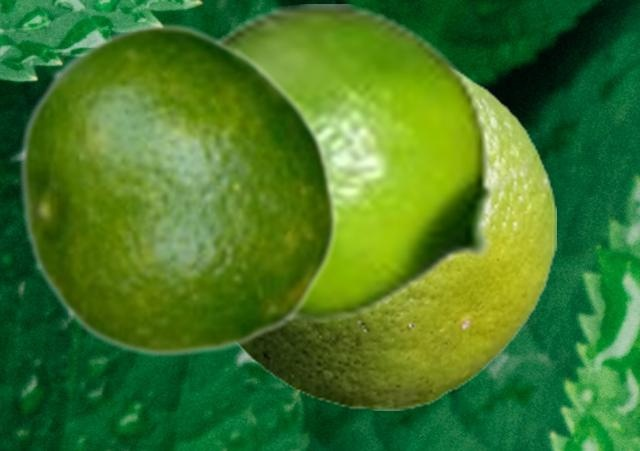calamansi: (236, 65, 555, 409), (17, 21, 339, 357), (212, 4, 530, 322)
